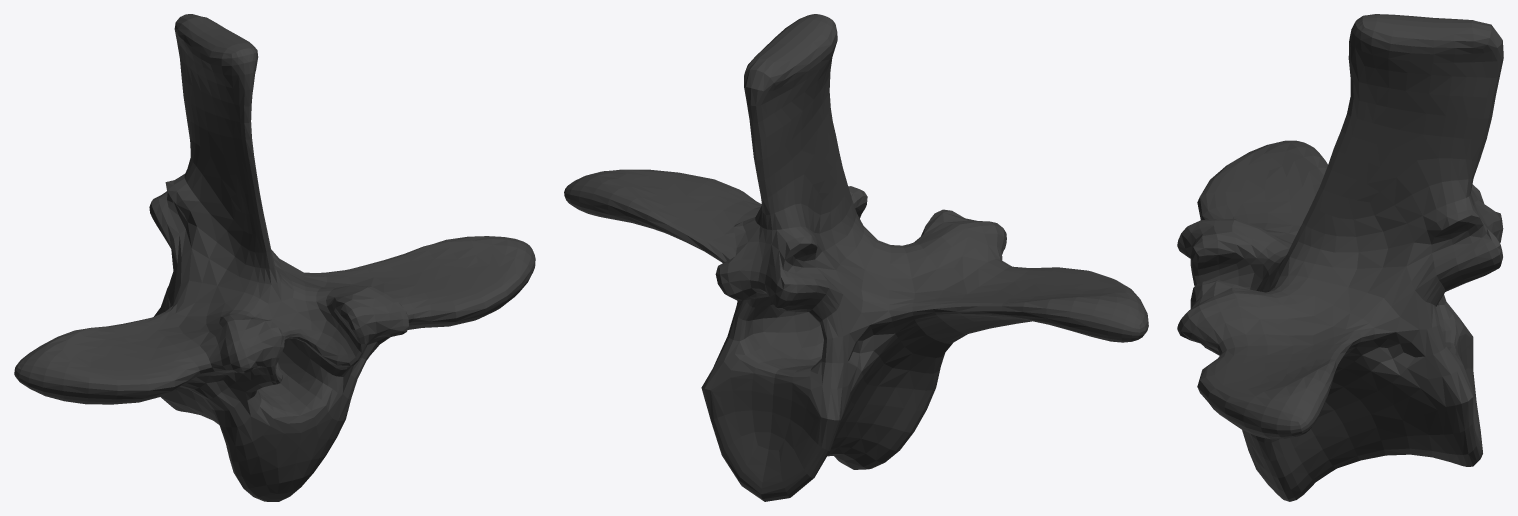
3 views of the same model, side by side, from view 1: azimuth 30°, elevation 25°; view 2: azimuth 150°, elevation 25°; view 3: azimuth 270°, elevation 25° (orthographic). The views are drawn at different scales.
Visible parts, largest first — view 1: b_L1_LO; view 2: b_L1_LO; view 3: b_L1_LO.
Part boxes in pixels (left/top/right/bottom): b_L1_LO: left=14, top=14, right=535, bottom=501; b_L1_LO: left=564, top=14, right=1148, bottom=501; b_L1_LO: left=1177, top=14, right=1503, bottom=501.
Size of the model in its own units: 0.00174 by 0.00139 by 0.000854.
1 material, 1 textured.
